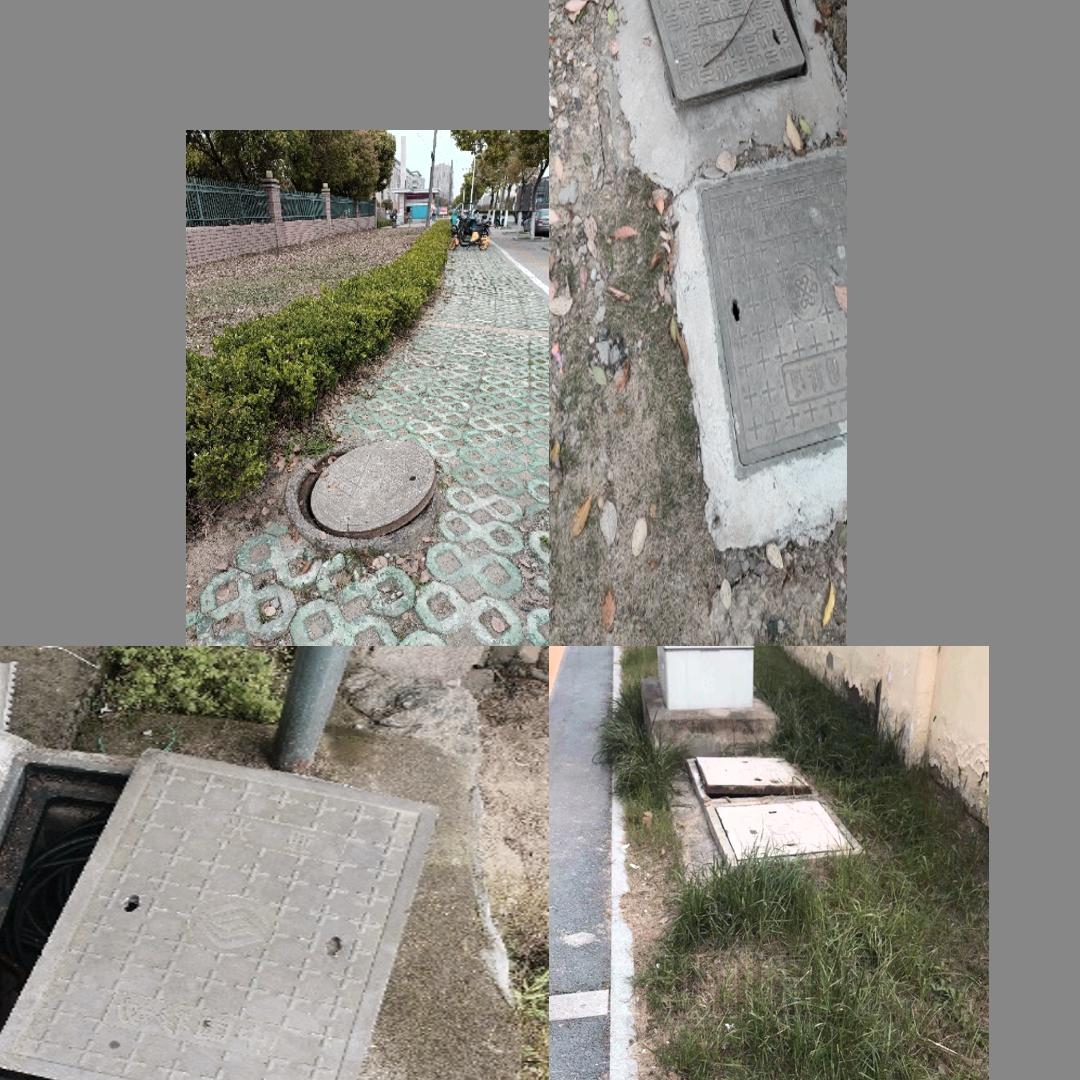good: (695, 147, 847, 479), (703, 796, 865, 869)
uncovered: (0, 743, 439, 1080), (608, 0, 817, 116), (284, 440, 446, 549), (687, 754, 816, 800)
